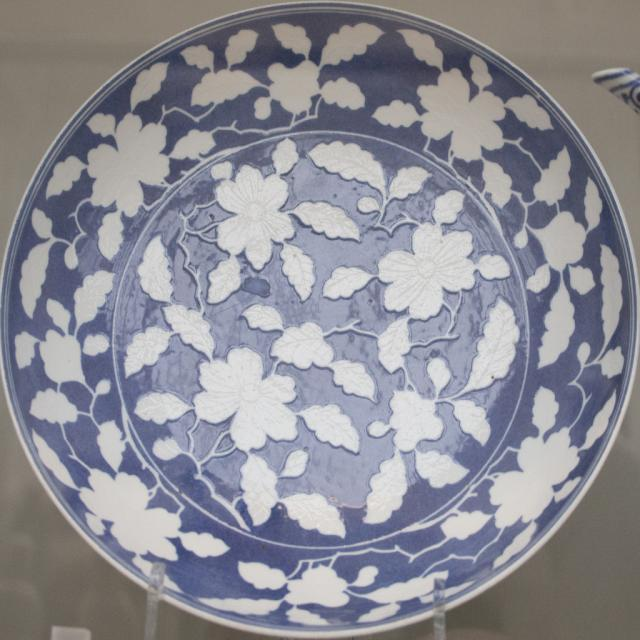ceramic plate: (0, 3, 640, 626)
